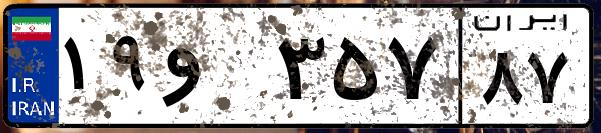1: (57, 26, 110, 100)
3: (270, 28, 330, 110)
5: (330, 28, 385, 110)
7: (385, 28, 445, 110), (525, 38, 570, 115)
8: (475, 38, 525, 113)
9: (110, 28, 158, 98)
و: (158, 20, 270, 120)
